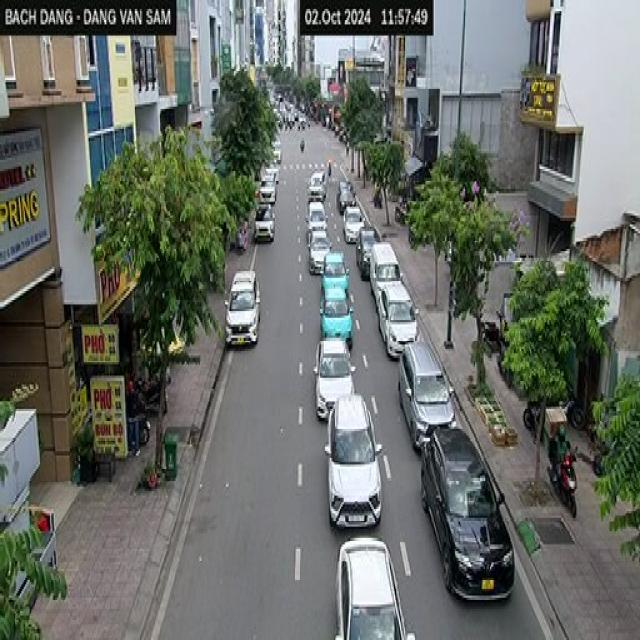car: (422, 424, 516, 603), (336, 546, 416, 640), (329, 401, 383, 532), (400, 340, 458, 446), (316, 338, 356, 416), (225, 272, 262, 348), (378, 284, 418, 352), (320, 285, 356, 349), (371, 238, 402, 284), (357, 224, 377, 276), (308, 228, 330, 270), (322, 254, 345, 290), (306, 199, 328, 235), (344, 203, 362, 241), (310, 164, 328, 198), (253, 209, 274, 238), (338, 178, 356, 208), (260, 173, 277, 203)
motorcycle: (549, 458, 582, 516)
person: (554, 418, 570, 468)
